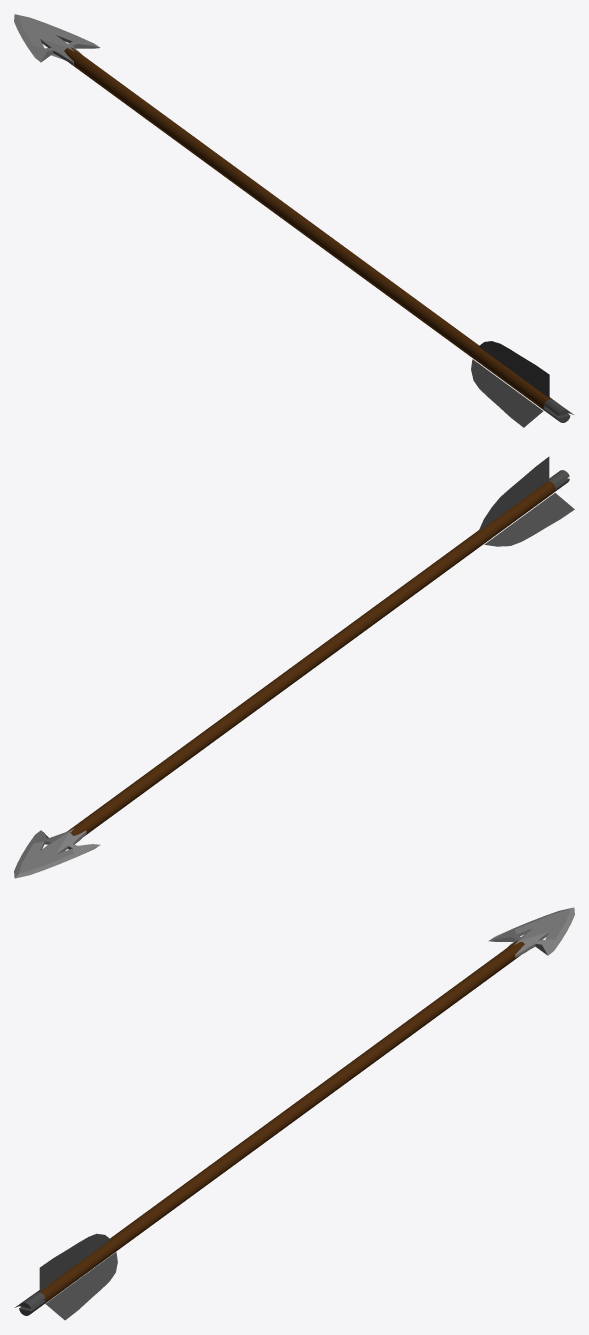
Rendered from arrow2.fbx.
The picture shows the model from 3 angles, top to bottom: view 1: azimuth 30°, elevation 25°; view 2: azimuth 150°, elevation 25°; view 3: azimuth 330°, elevation 25°; orthographic projection.
Parts seen in each view (by area): view 1: Cylinder.001, Plane, Plane.001, Plane.003; view 2: Cylinder.001, Plane, Plane.001, Plane.003; view 3: Cylinder.001, Plane, Plane.002, Plane.003.
Boxes of the visible parts, left/top/right/bottom form: Cylinder.001: left=64, top=47, right=570, bottom=422; Plane: left=14, top=14, right=100, bottom=64; Plane.001: left=471, top=359, right=543, bottom=427; Plane.003: left=479, top=341, right=549, bottom=398; Cylinder.001: left=67, top=470, right=569, bottom=836; Plane: left=14, top=828, right=100, bottom=878; Plane.001: left=484, top=493, right=574, bottom=546; Plane.003: left=478, top=456, right=549, bottom=531; Cylinder.001: left=19, top=940, right=524, bottom=1315; Plane: left=488, top=907, right=574, bottom=957; Plane.002: left=45, top=1252, right=117, bottom=1320; Plane.003: left=39, top=1233, right=110, bottom=1291.
Size of the model in its own units: 85.57 by 64.04 by 1361.
